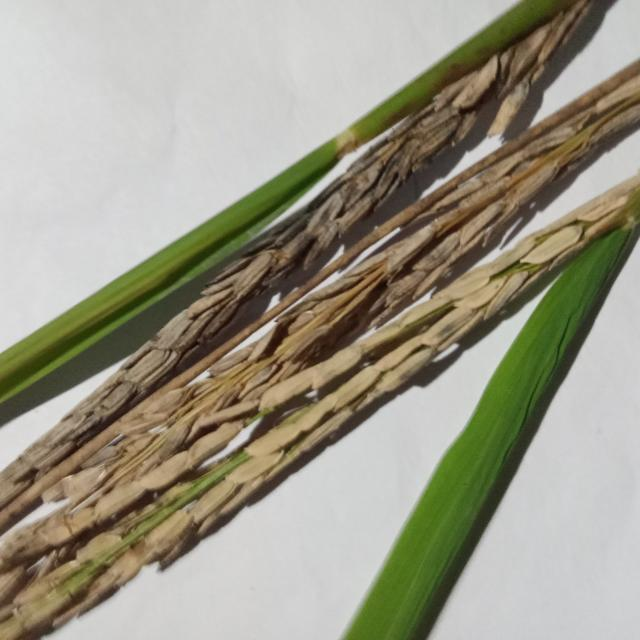Neck_Blast: (0, 0, 640, 640)
